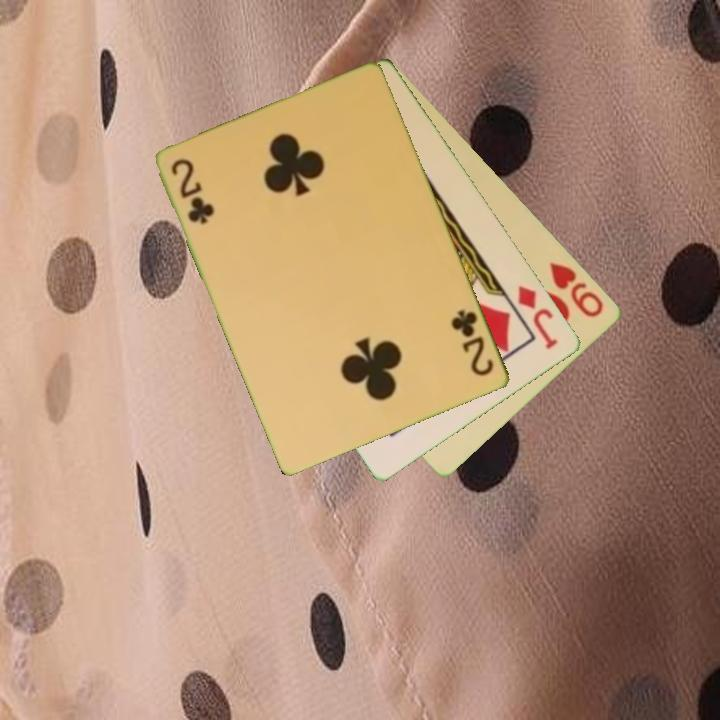2c: (448, 306, 498, 380), (168, 155, 216, 228)
9h: (546, 258, 607, 321)
Jd: (514, 282, 561, 353)
